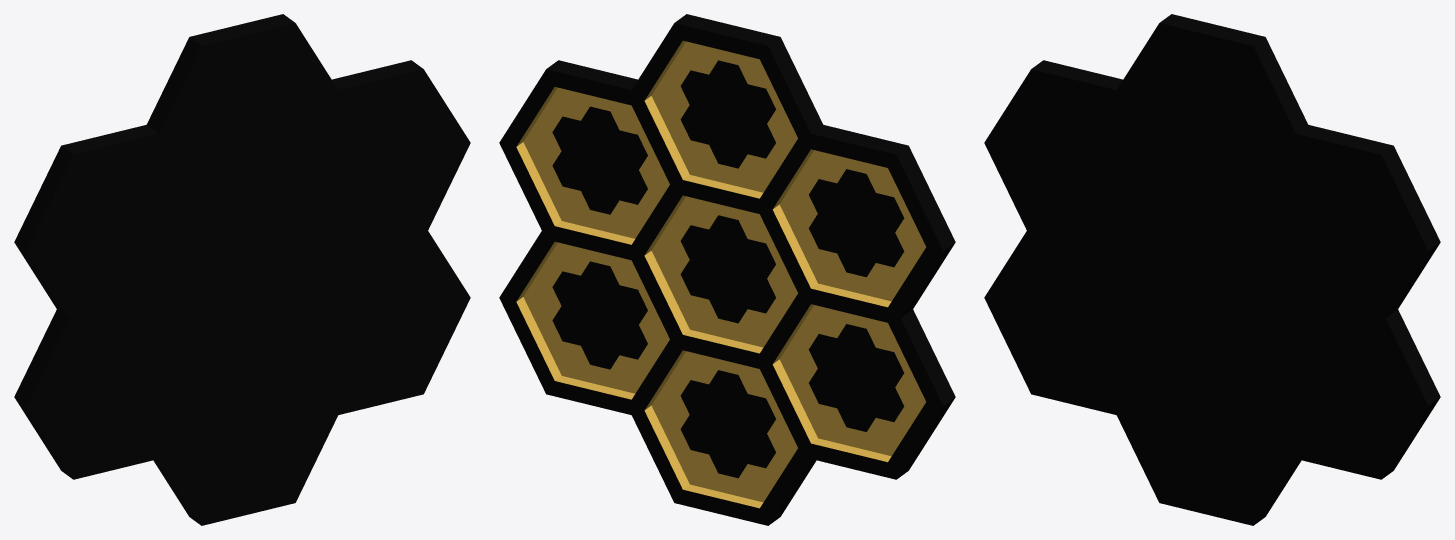
Rendered from WorldGrid.fbx.
3 views of the same model, side by side, from view 1: azimuth 30°, elevation 25°; view 2: azimuth 150°, elevation 25°; view 3: azimuth 330°, elevation 25° (orthographic).
Parts seen in each view (by area): view 1: WorldGrid; view 2: WorldGrid; view 3: WorldGrid.
Part boxes in pixels (x1,y1,x2,y2): WorldGrid: [14, 14, 470, 525]; WorldGrid: [499, 14, 955, 525]; WorldGrid: [984, 14, 1440, 525].
Bounding box in the file's own units: 37.14 × 38.35 × 1.79.
